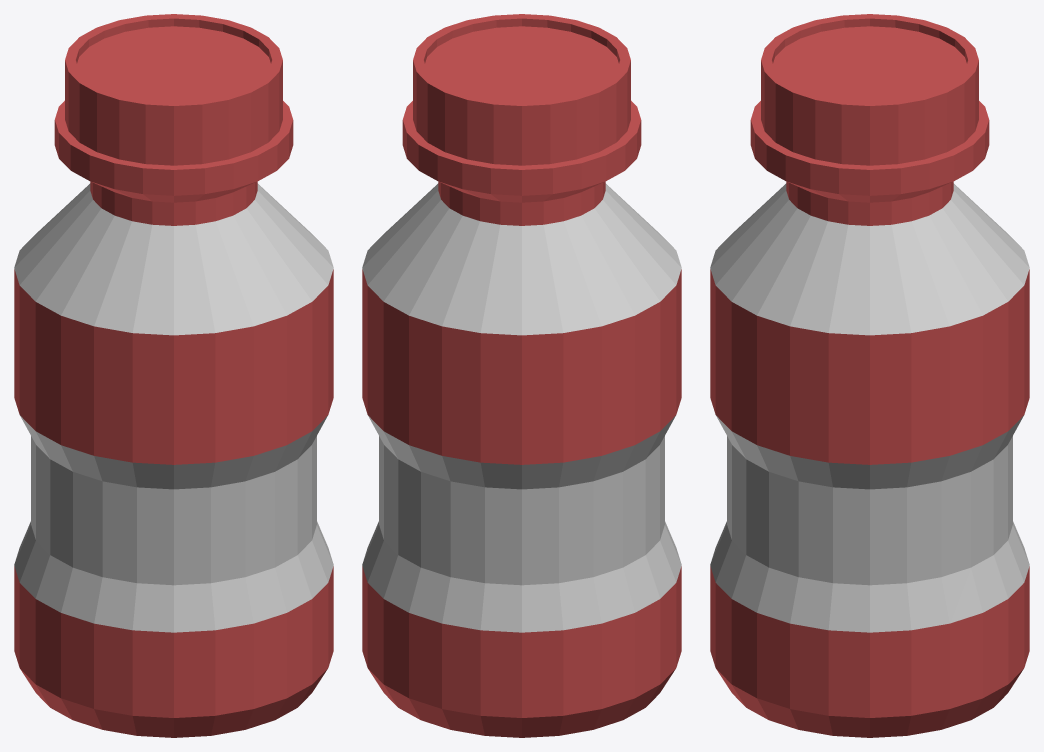
3 renders of one model, left to right at view 1: azimuth 30°, elevation 25°; view 2: azimuth 150°, elevation 25°; view 3: azimuth 270°, elevation 25°, orthographic.
Visible parts, largest first — view 1: mesh1_mesh1-geometry; view 2: mesh1_mesh1-geometry; view 3: mesh1_mesh1-geometry.
Boxes of the visible parts, x1,y1,x2,y2 form: mesh1_mesh1-geometry: (14, 14, 333, 737); mesh1_mesh1-geometry: (362, 14, 681, 737); mesh1_mesh1-geometry: (710, 14, 1029, 737).
Bounding box in the file's own units: 0.3909 × 0.8333 × 0.3909.
